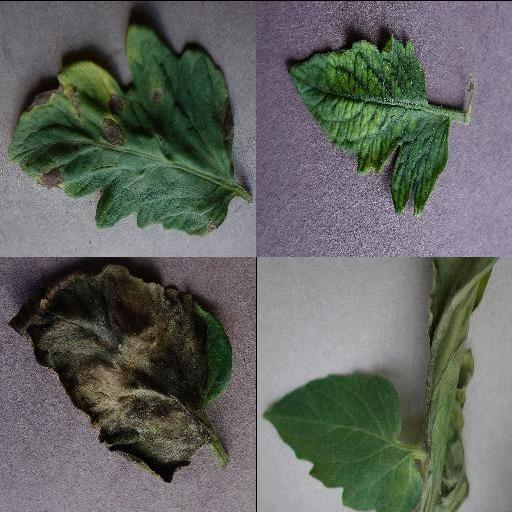Early Blight: (6, 23, 236, 237)
Healthy: (262, 371, 424, 512)
Late Blight: (3, 260, 231, 484), (425, 256, 499, 512)
Mosaic Virus: (285, 33, 451, 217)
